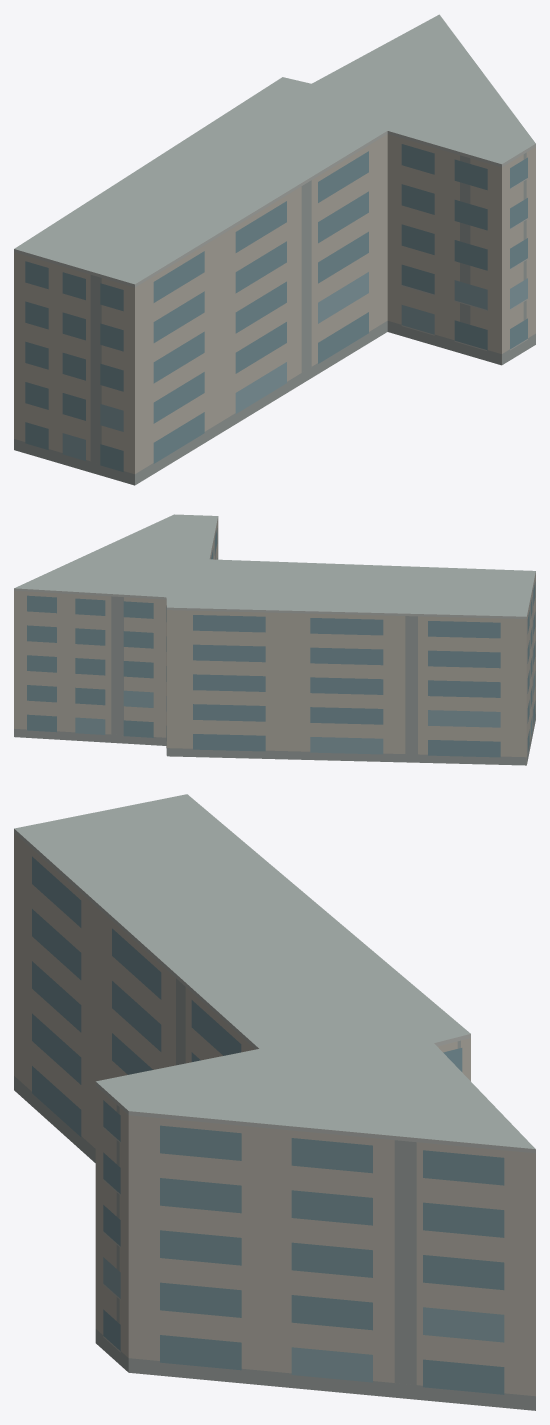
File: residential-9e45314e-68e8-4e46-baf3-c90925e58b9a.glb
3 renders of one model, top to bottom at view 1: azimuth 30°, elevation 25°; view 2: azimuth 150°, elevation 25°; view 3: azimuth 270°, elevation 25°, orthographic. The views are drawn at different scales.
Visible parts, largest first — view 1: residential-9e45314e-68e8-4e46-baf3-c90925e58b9a.tmp; view 2: residential-9e45314e-68e8-4e46-baf3-c90925e58b9a.tmp; view 3: residential-9e45314e-68e8-4e46-baf3-c90925e58b9a.tmp.
Part boxes in pixels (x1=…): residential-9e45314e-68e8-4e46-baf3-c90925e58b9a.tmp: x1=14, y1=14, x2=535, y2=485; residential-9e45314e-68e8-4e46-baf3-c90925e58b9a.tmp: x1=14, y1=514, x2=535, y2=765; residential-9e45314e-68e8-4e46-baf3-c90925e58b9a.tmp: x1=14, y1=794, x2=535, y2=1410.
Bounding box in the file's own units: 44.4 × 15.25 × 27.57.
